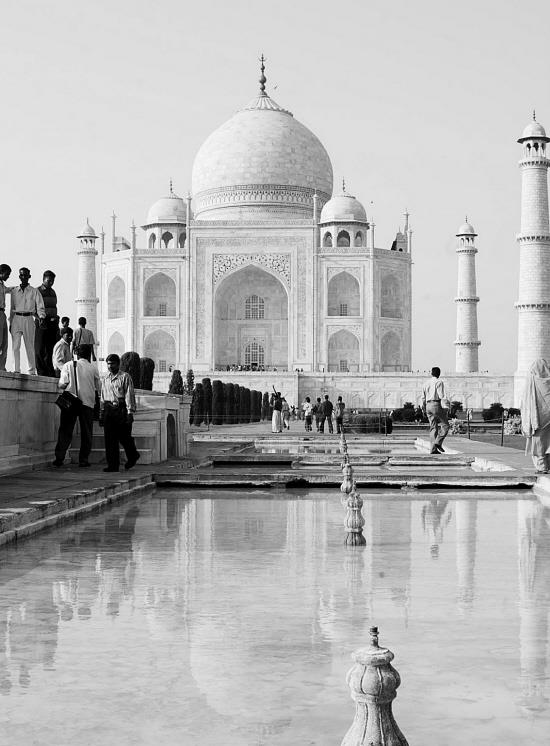Taj_Mahal: (75, 47, 546, 425)
